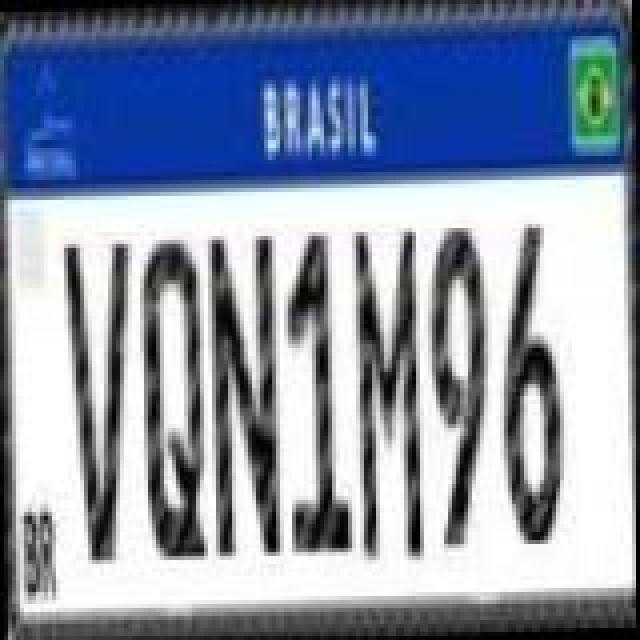1: (276, 226, 356, 554)
6: (490, 210, 566, 550)
9: (418, 216, 494, 556)
M: (348, 222, 428, 570)
N: (204, 228, 284, 556)
Q: (136, 234, 208, 558)
V: (60, 236, 140, 564)
